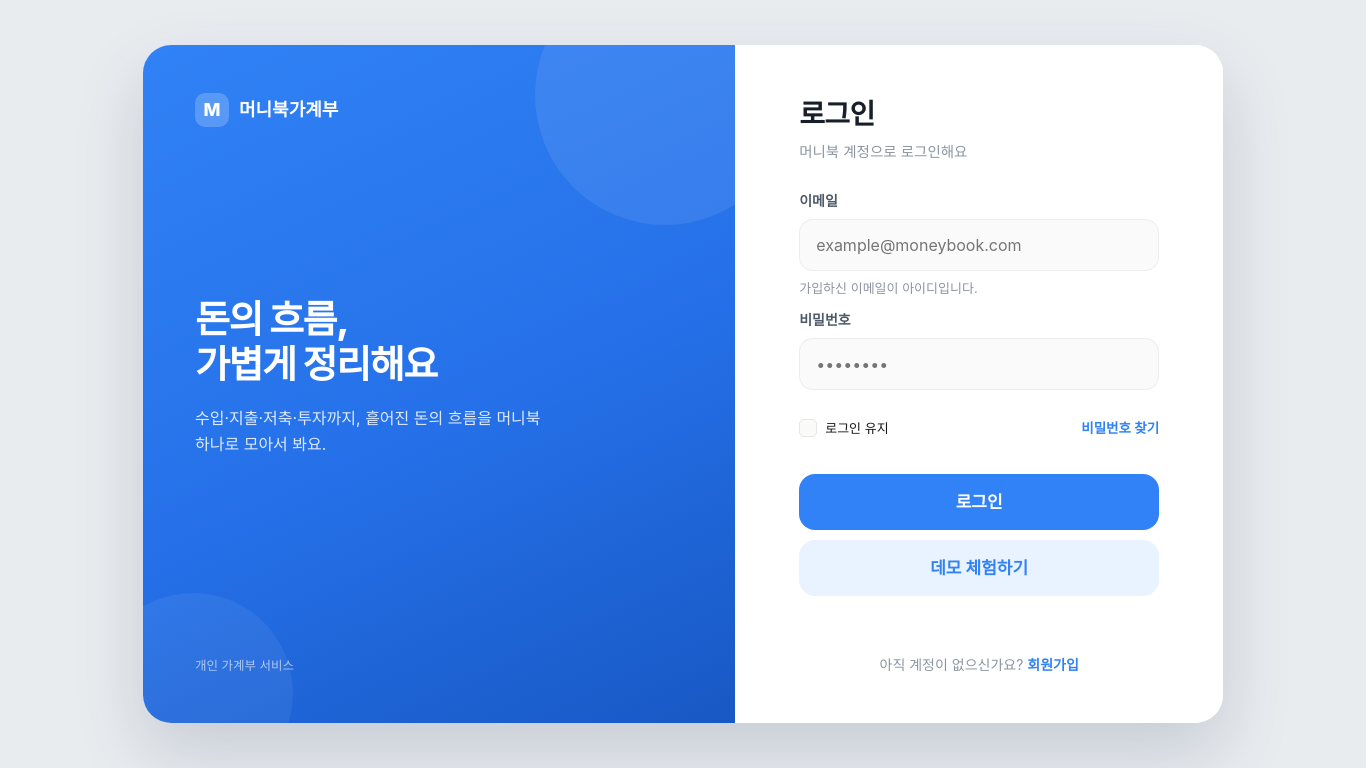
Scenario: LoginPage › unlocks the form after a network failure
This screenshot has width=1366, height=768.
Type "hong@example.com" into the field labelled "이메일" at [979, 245], box [799, 219, 1159, 271]
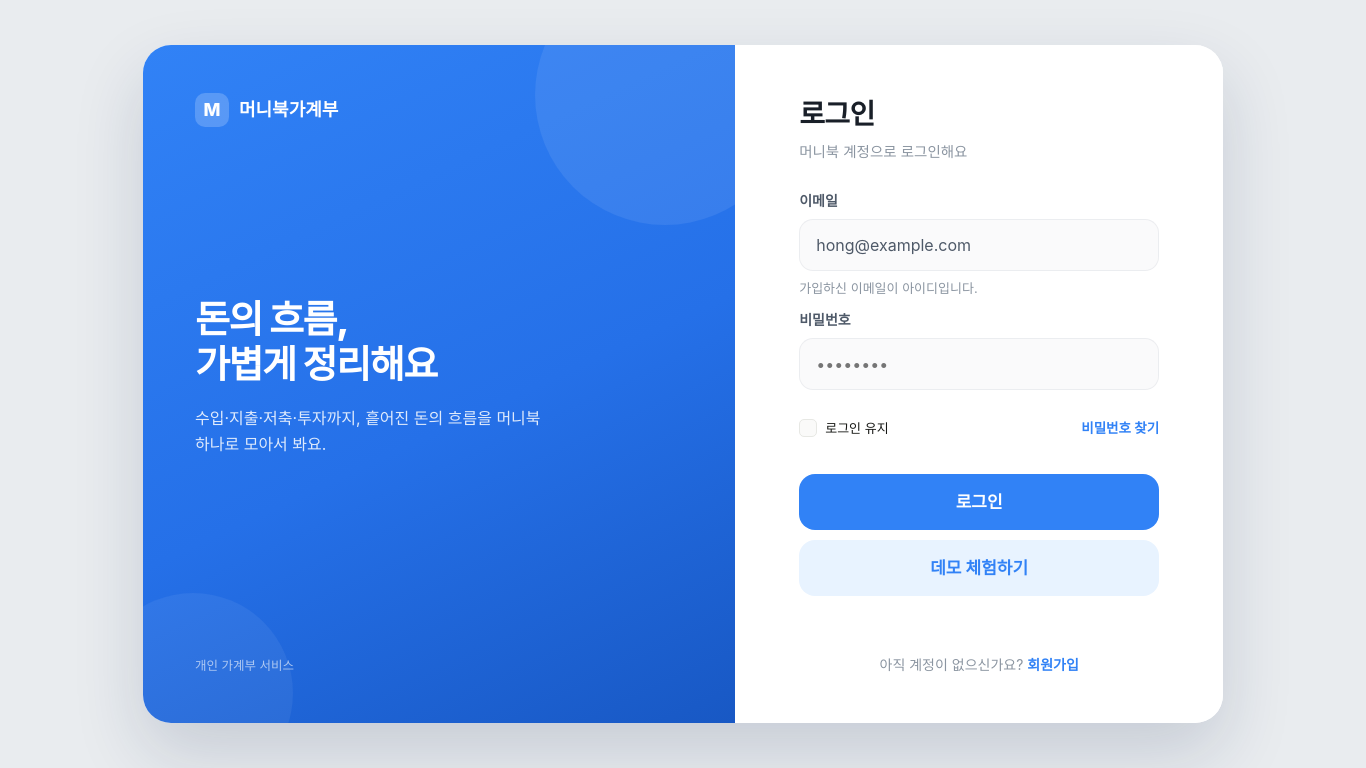
Type "test-password" into the password field labelled "비밀번호" at [979, 364], box [799, 338, 1159, 390]
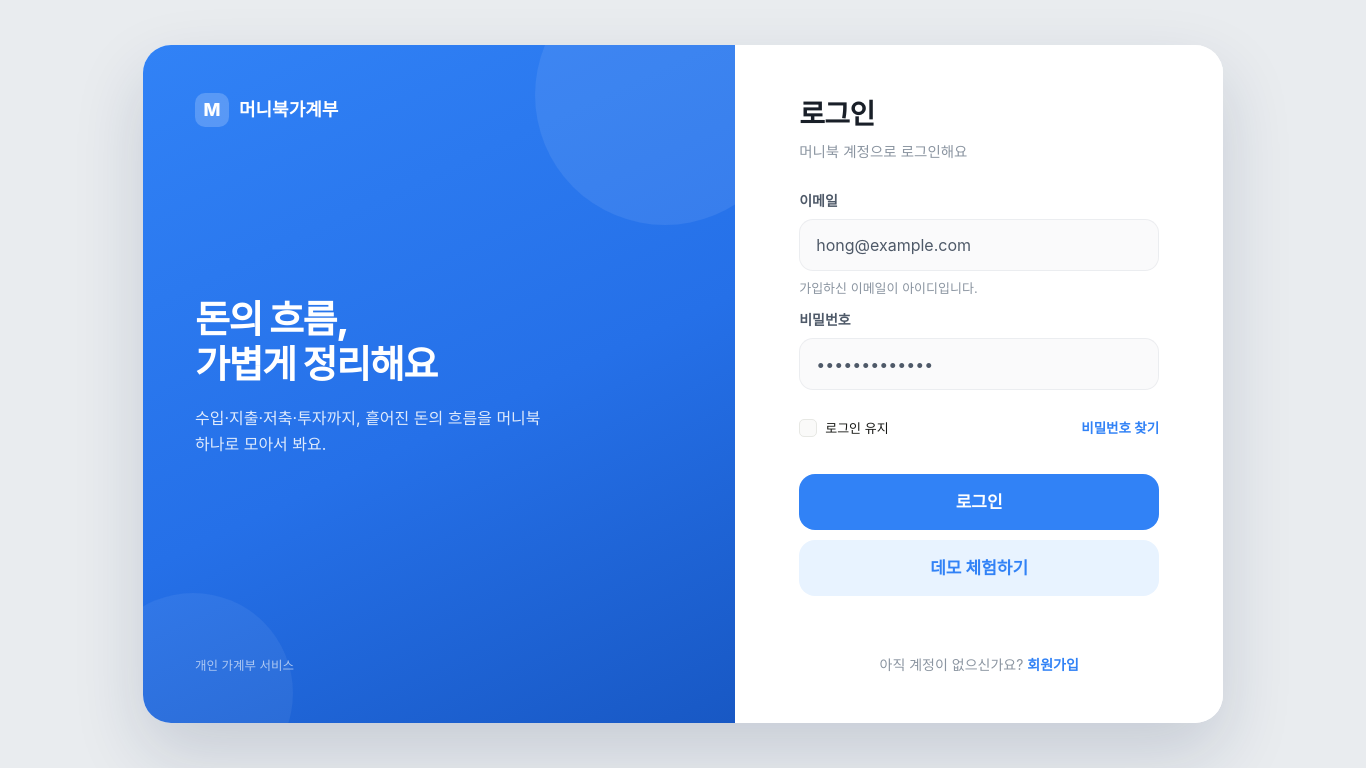
Click the button "로그인" at [979, 502], box [799, 474, 1159, 530]
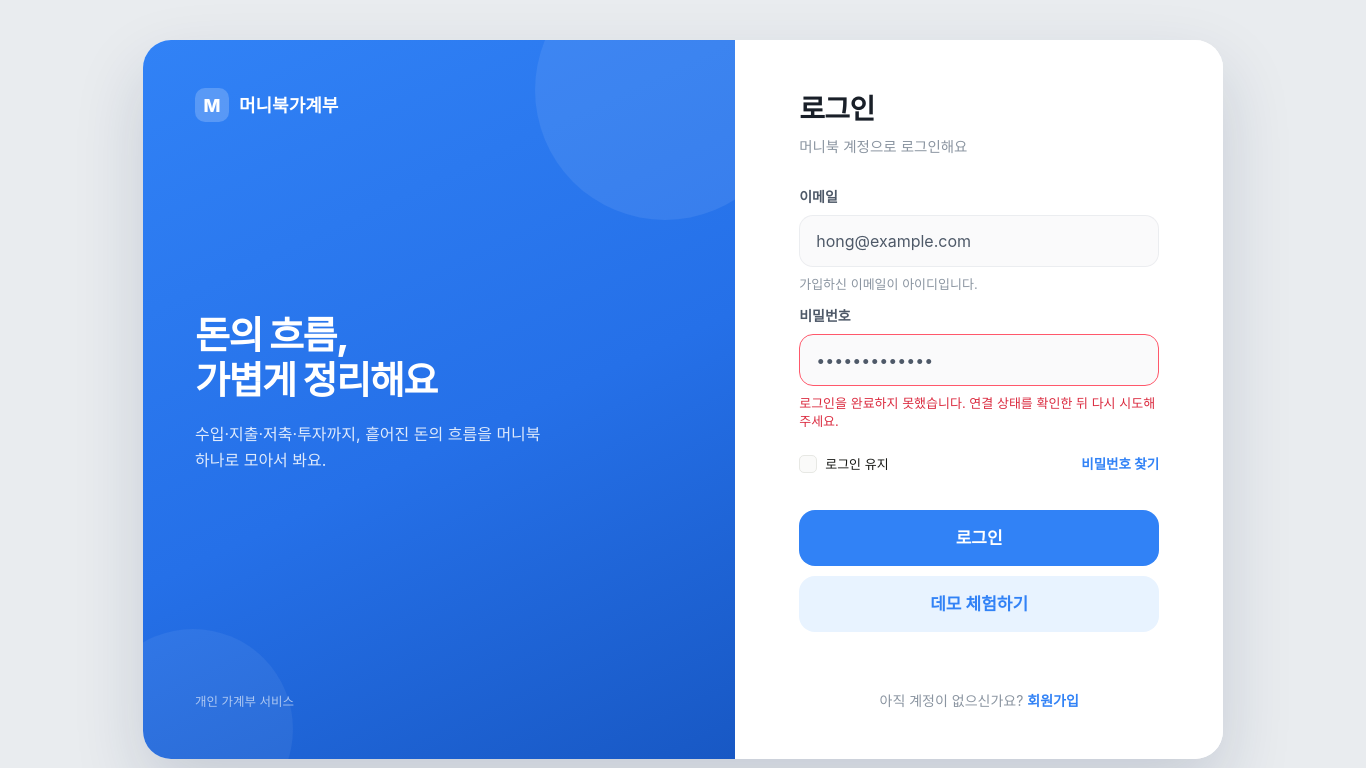
Expected: the button "로그인" is enabled, [799, 510, 1159, 566]
Now the message "로그인을 완료하지 못했습니다. 연결 상태를 확인한 뒤 다시 시도해주세요." is shown, box [799, 394, 1159, 430]
